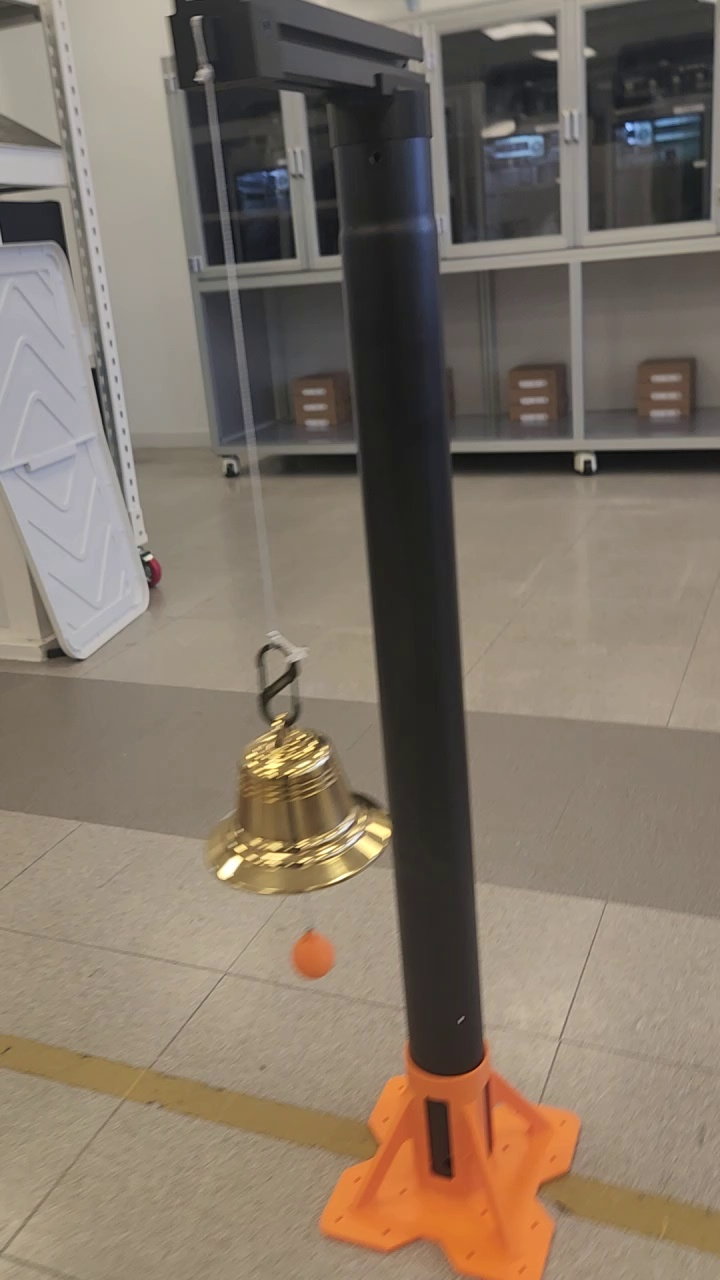pole: (330, 67, 487, 1056)
